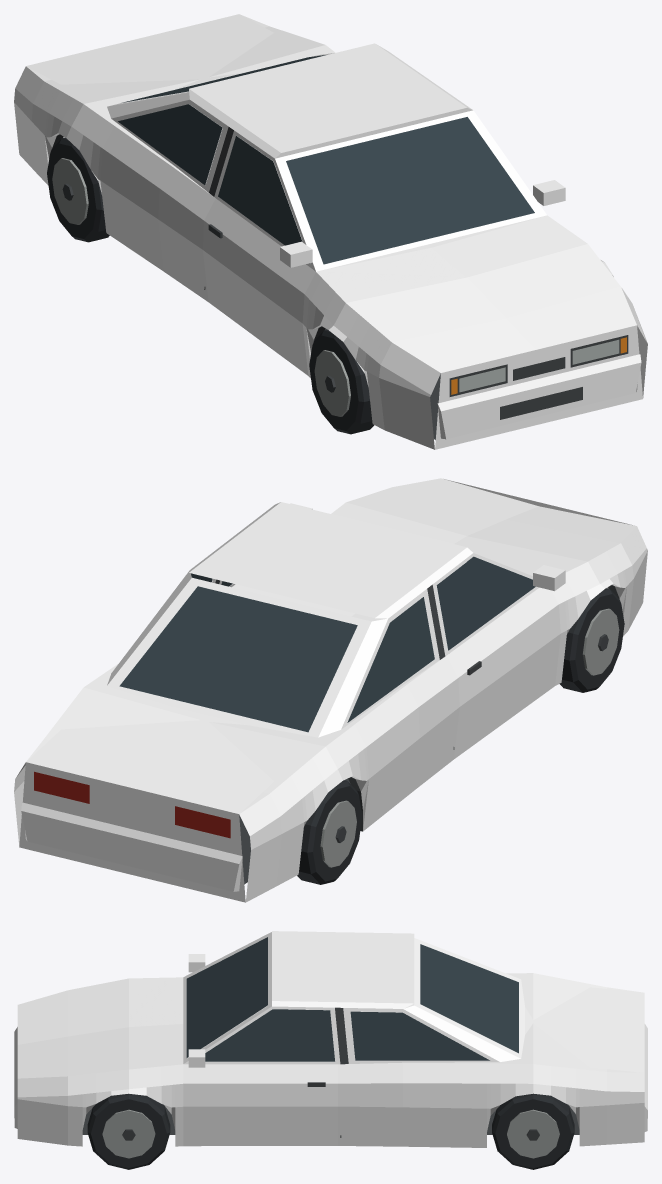
File: arvelle_outlaw_s_ii.glb
The picture shows the model from 3 angles, top to bottom: view 1: azimuth 30°, elevation 25°; view 2: azimuth 150°, elevation 25°; view 3: azimuth 270°, elevation 25°; orthographic projection. The views are drawn at different scales.
Visible parts, largest first — view 1: arvelle_outlaw_s_ii; view 2: arvelle_outlaw_s_ii; view 3: arvelle_outlaw_s_ii.
Boxes of the visible parts, x1,y1,x2,y2 form: arvelle_outlaw_s_ii: (14,14,647,449); arvelle_outlaw_s_ii: (14,478,647,902); arvelle_outlaw_s_ii: (14,931,647,1169).
Size of the model in its own units: 1.77 by 1.23 by 4.56.
Materials: 8 (1 with a texture image).
